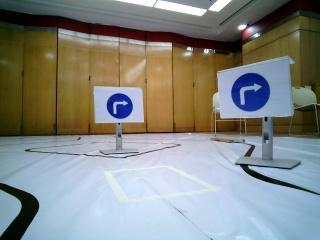right: (216, 69, 288, 117), (95, 87, 143, 122)
